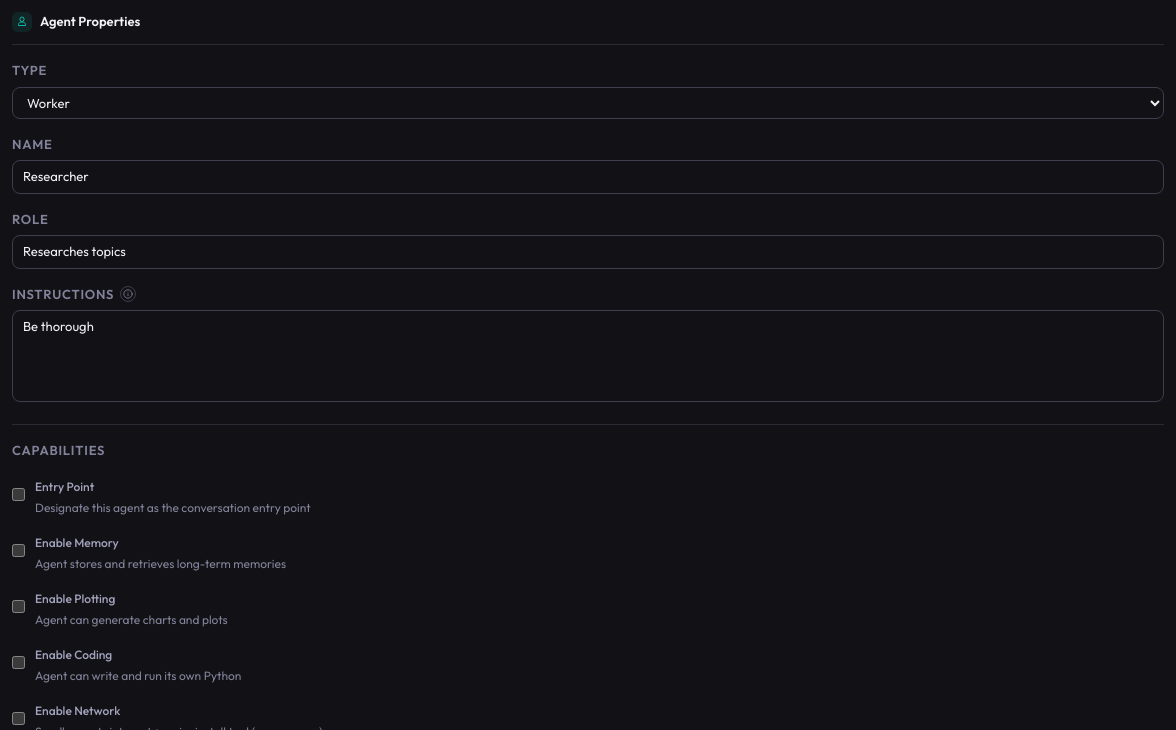
Test: AgentEditor › does not show network toggle for router agents
Expected: the checkbox with test id "agent-enable-network" is shown, x1=12 y1=712 x2=25 y2=725
Select "Router" in the dropdown with test id "agent-type-select" at coordinates (588, 102), box x1=12 y1=86 x2=1164 y2=118
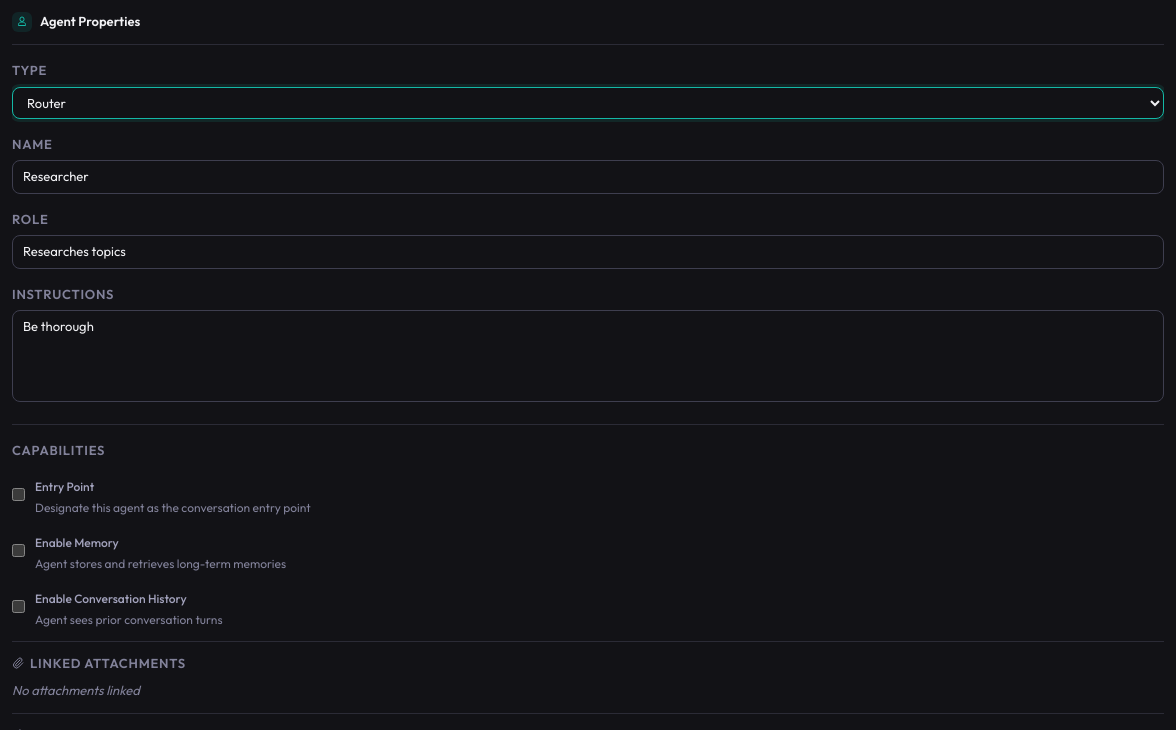
Expected: the checkbox with test id "agent-enable-network" is gone
